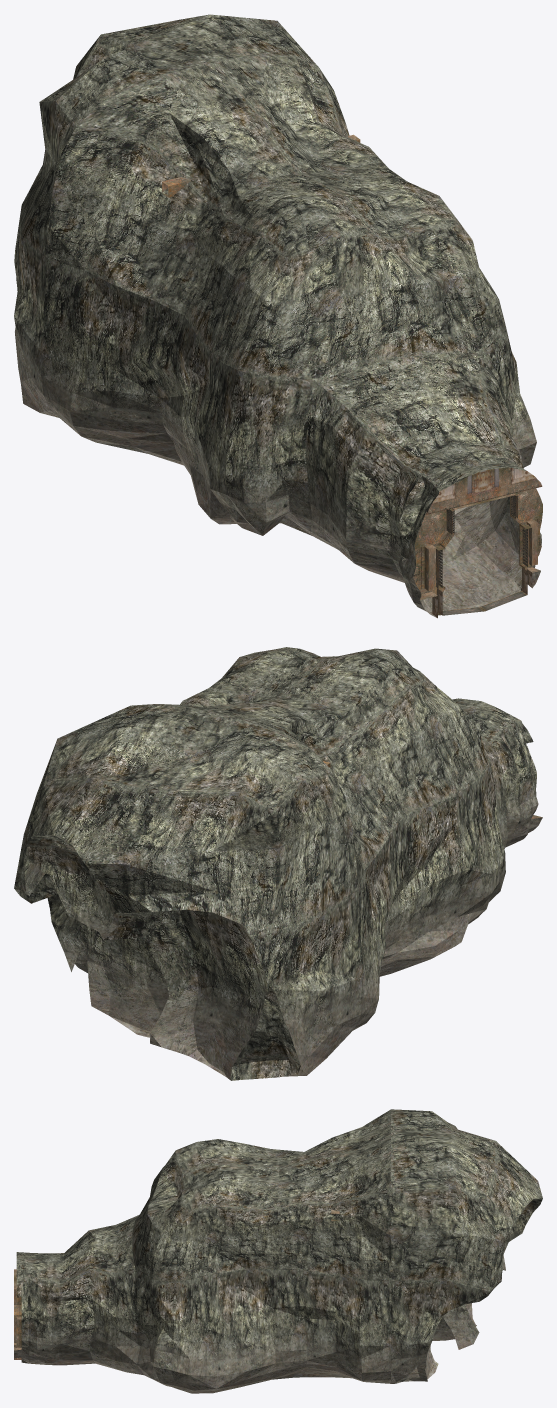
The model's file is poi_all_bunker_allum_mine_r55_medroom55_mesh_r55.fbx.
3 views of the same model, one above another, from view 1: azimuth 30°, elevation 25°; view 2: azimuth 150°, elevation 25°; view 3: azimuth 270°, elevation 25° (orthographic). The views are drawn at different scales.
Parts seen in each view (by area): view 1: mesh_node; view 2: mesh_node; view 3: mesh_node.
Part boxes in pixels (x1,y1,x2,y2): mesh_node: (14,14,542,618); mesh_node: (14,647,542,1080); mesh_node: (14,1109,542,1393).
Size of the model in its own units: 16.54 by 16.57 by 35.08.
